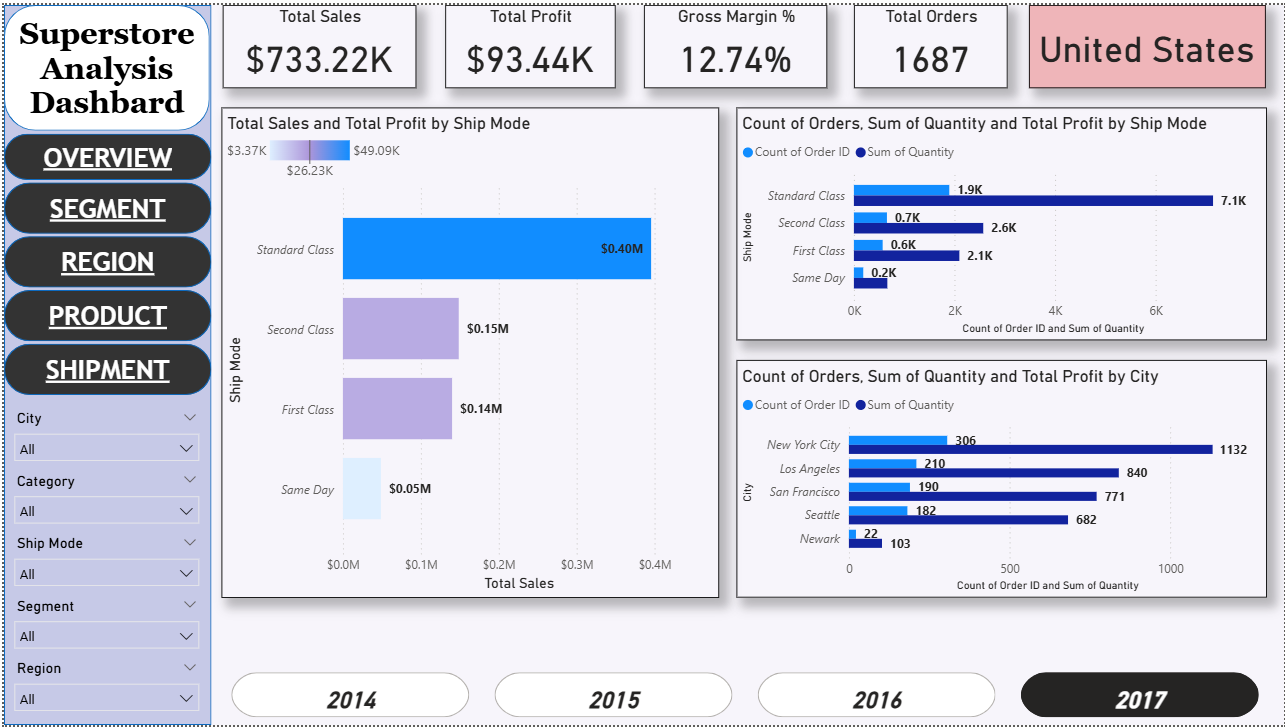

What the dashboard file says about the page in this screenshot:
{"tool":"powerbi","page":{"name":"Shipment Analysis","canvas":[1280,720],"ordinal":4},"visuals":[{"type":"card","title":"Total Profit","fields":{"Values":["Key Measurers.Total Profit"]},"box":[441.7,0,170,83.3],"z":0},{"type":"card","title":"Gross Margin %","fields":{"Values":["Key Measurers.Gross Margin %"]},"box":[640,0,183.3,83.3],"z":1},{"type":"card","title":"Total Sales","fields":{"Values":["Key Measurers.Total Sales"]},"box":[218.3,0,193.3,83.3],"z":2},{"type":"card","title":"Total Orders","fields":{"Values":["Count(Sample - Superstore_cleaned.Order ID)"]},"box":[850,0,153.3,83.3],"z":3},{"type":"shape","box":[0,0,207.5,720],"z":4},{"type":"shape","box":[0,0,205.7,125.7],"z":5},{"type":"card","fields":{"Values":["Min(Sample - Superstore_cleaned.Country)"]},"box":[1025,0,236.7,83.3],"z":6},{"type":"clusteredBarChart","fields":{"Category":["Sample - Superstore_cleaned.Ship Mode"],"Y":["Key Measurers.Total Sales"]},"box":[217.5,102.5,497.5,490],"z":17},{"type":"clusteredBarChart","title":"Count of Orders, Sum of Quantity and Total Profit by Ship Mode","fields":{"Category":["Sample - Superstore_cleaned.Ship Mode"],"Y":["CountNonNull(Sample - Superstore_cleaned.Order ID)","Sum(Sample - Superstore_cleaned.Quantity)"]},"box":[732.5,102.5,530,232.5],"z":18},{"type":"clusteredBarChart","title":"Count of Orders, Sum of Quantity and Total Profit by City","fields":{"Category":["Sample - Superstore_cleaned.City","Sample - Superstore_cleaned.Ship Mode"],"Y":["CountNonNull(Sample - Superstore_cleaned.Order ID)","Sum(Sample - Superstore_cleaned.Quantity)"]},"box":[732.5,355,530,237.5],"z":19},{"type":"advancedSlicerVisual","title":"Year as per Profit","fields":{"Values":["Sample - Superstore_cleaned.Year"]},"box":[222.5,662.5,1040,55],"z":25},{"type":"shape","box":[0,128.8,207.5,46.2],"z":26},{"type":"shape","box":[0,177.5,207.5,51.2],"z":27},{"type":"shape","box":[0,231.2,207.5,51.2],"z":28},{"type":"shape","box":[0,285,207.5,51.2],"z":29},{"type":"shape","box":[0,338.8,207.5,51.2],"z":30},{"type":"slicer","fields":{"Values":["Sample - Superstore_cleaned.City"]},"box":[0,400,205,62.5],"z":31},{"type":"slicer","fields":{"Values":["Sample - Superstore_cleaned.Category"]},"box":[0,462.5,205,62.5],"z":32},{"type":"slicer","fields":{"Values":["Sample - Superstore_cleaned.Ship Mode"]},"box":[0,525,205,62.5],"z":33},{"type":"slicer","fields":{"Values":["Sample - Superstore_cleaned.Segment"]},"box":[0,587.5,205,62.5],"z":34},{"type":"slicer","fields":{"Values":["Sample - Superstore_cleaned.Region"]},"box":[0,650,205,62.5],"z":35}]}

Visuals, with their boxes in screenshot pixels (x1, y1, x2, y2), scaled from the page's 1280x720 canvas onto the 1285x727 screenshot:
"Total Profit" card: [left=443, top=0, right=614, bottom=84]
"Gross Margin %" card: [left=642, top=0, right=827, bottom=84]
"Total Sales" card: [left=219, top=0, right=413, bottom=84]
"Total Orders" card: [left=853, top=0, right=1007, bottom=84]
shape: [left=0, top=0, right=208, bottom=726]
shape: [left=0, top=0, right=207, bottom=127]
card - Min(Sample - Superstore_cleaned.Country): [left=1029, top=0, right=1267, bottom=84]
clusteredBarChart - Sample - Superstore_cleaned.Ship Mode x Key Measurers.Total Sales: [left=218, top=103, right=718, bottom=598]
"Count of Orders, Sum of Quantity and Total Profit by Ship Mode" clusteredBarChart: [left=735, top=103, right=1267, bottom=338]
"Count of Orders, Sum of Quantity and Total Profit by City" clusteredBarChart: [left=735, top=358, right=1267, bottom=598]
"Year as per Profit" advancedSlicerVisual: [left=223, top=669, right=1267, bottom=724]
shape: [left=0, top=130, right=208, bottom=177]
shape: [left=0, top=179, right=208, bottom=231]
shape: [left=0, top=233, right=208, bottom=285]
shape: [left=0, top=288, right=208, bottom=339]
shape: [left=0, top=342, right=208, bottom=394]
slicer - Sample - Superstore_cleaned.City: [left=0, top=404, right=206, bottom=467]
slicer - Sample - Superstore_cleaned.Category: [left=0, top=467, right=206, bottom=530]
slicer - Sample - Superstore_cleaned.Ship Mode: [left=0, top=530, right=206, bottom=593]
slicer - Sample - Superstore_cleaned.Segment: [left=0, top=593, right=206, bottom=656]
slicer - Sample - Superstore_cleaned.Region: [left=0, top=656, right=206, bottom=719]
